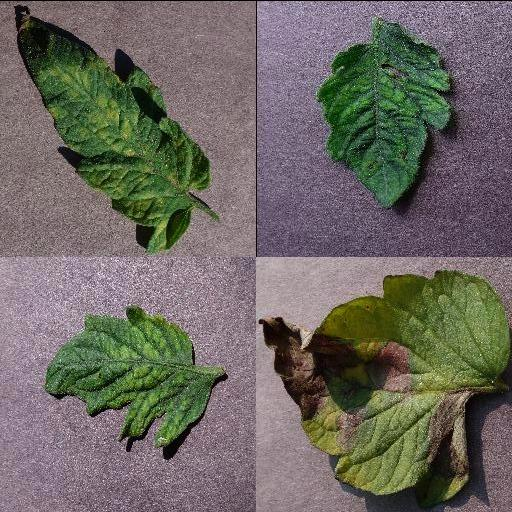Late Blight: (256, 268, 512, 508)
Leaf Mold: (16, 7, 210, 252)
Mosaic Virus: (316, 18, 452, 212), (42, 305, 214, 445)
